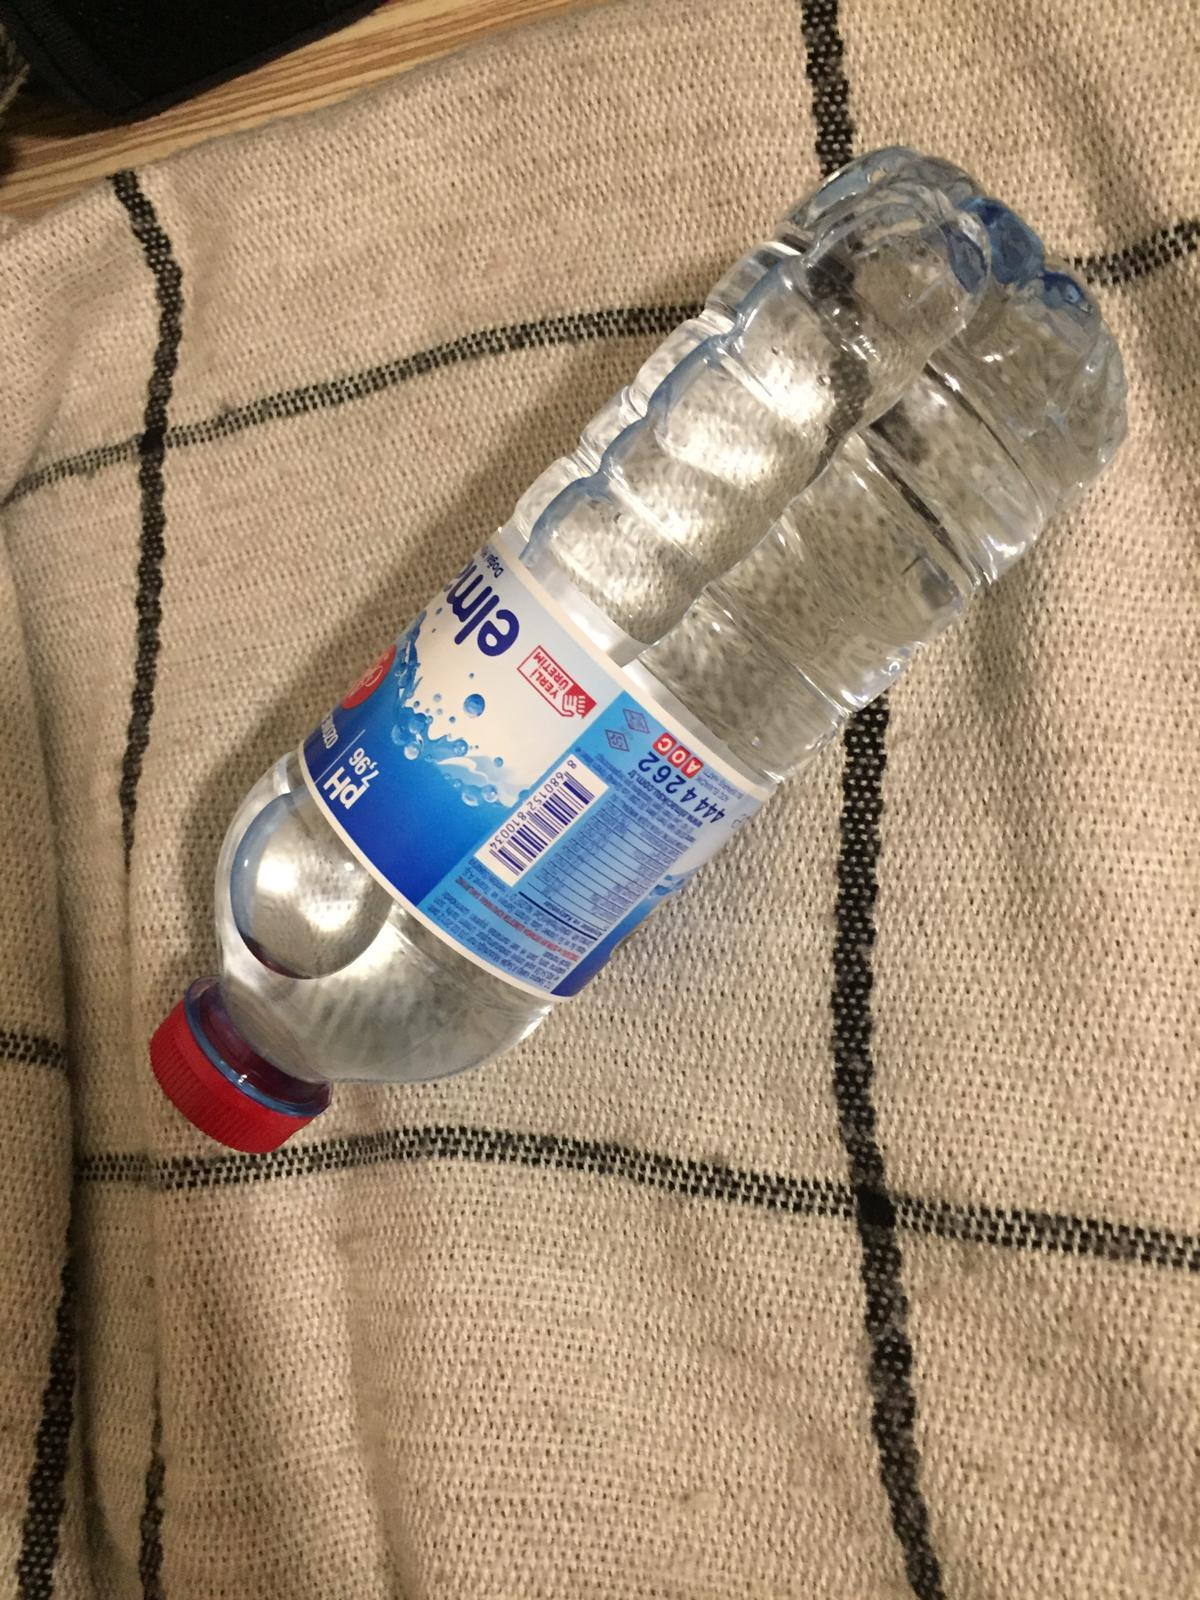bottle: (145, 131, 1127, 1158)
